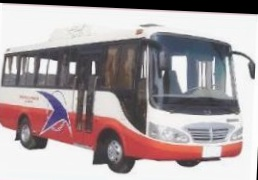bus: (0, 17, 258, 179)
